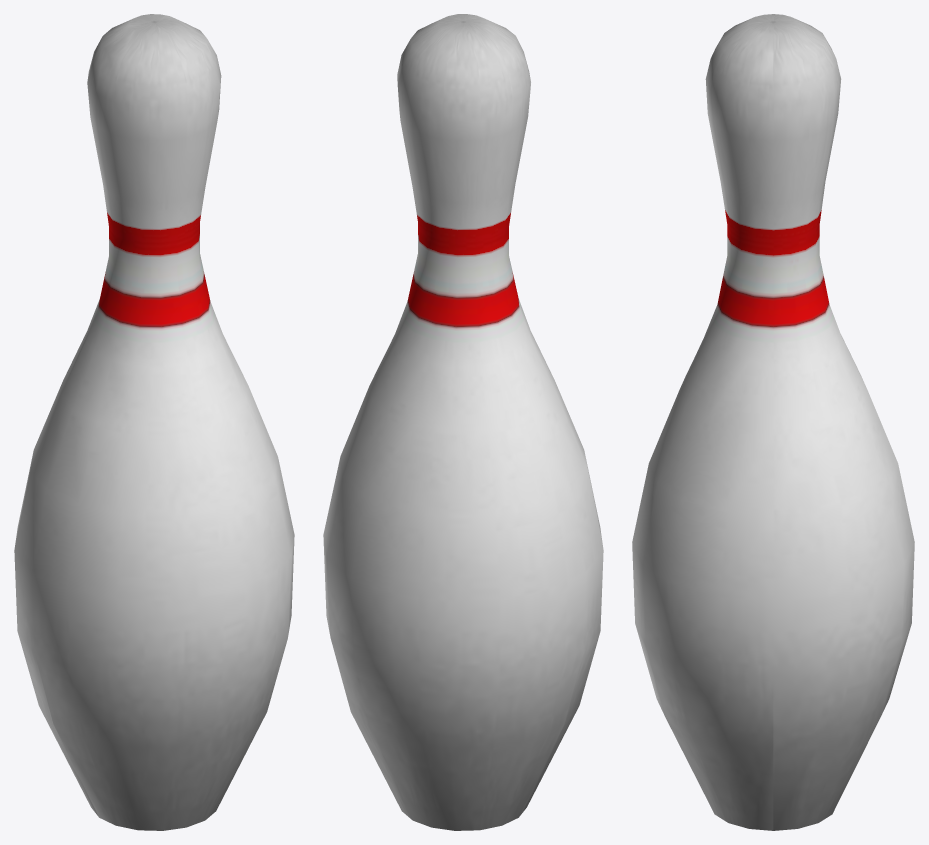
The model's file is pin.fbx.
3 views of the same model, side by side, from view 1: azimuth 30°, elevation 25°; view 2: azimuth 150°, elevation 25°; view 3: azimuth 270°, elevation 25° (orthographic).
Visible parts, largest first — view 1: Pin; view 2: Pin; view 3: Pin.
Boxes of the visible parts, box(x1,y1,x2,y2) form: Pin: box(14, 14, 294, 830); Pin: box(323, 14, 603, 830); Pin: box(632, 14, 914, 830).
Bounding box in the file's own units: 12.47 × 38.07 × 12.47.
